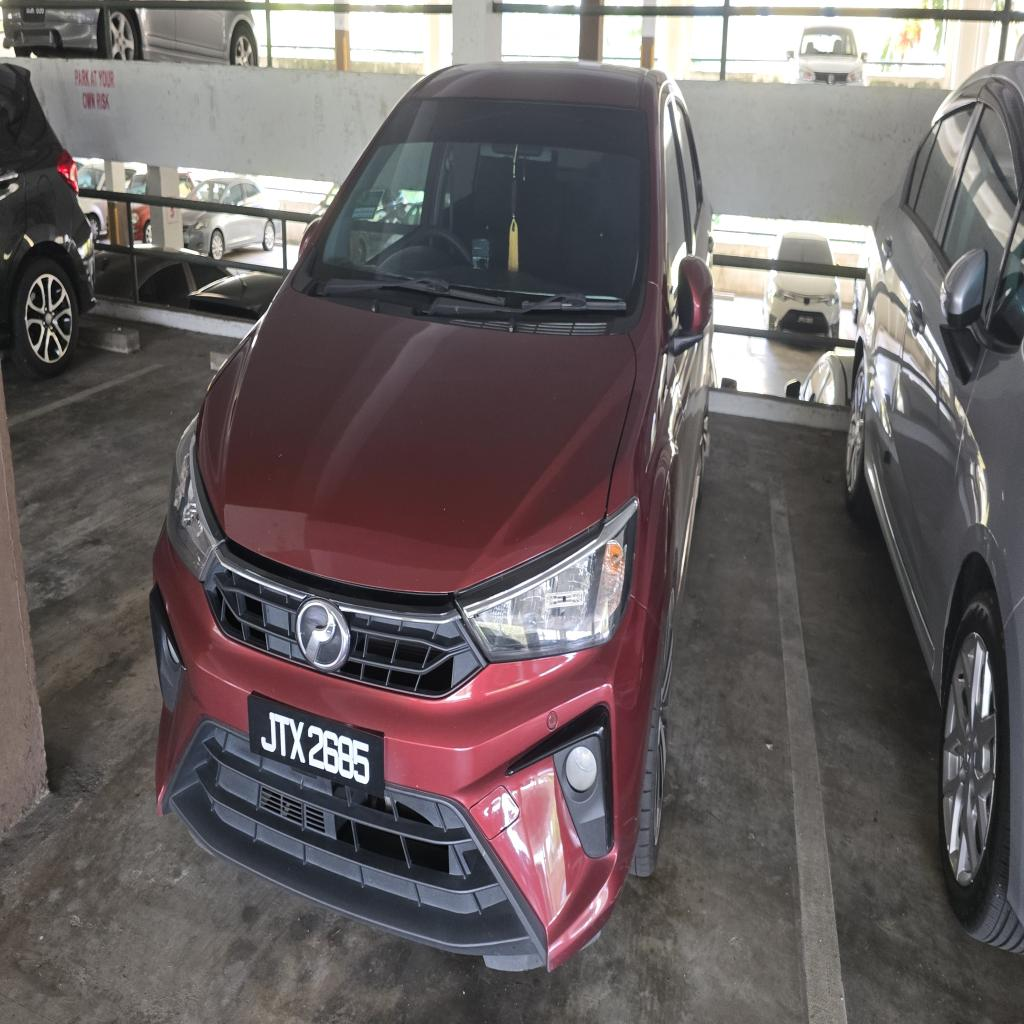car: (151, 64, 712, 969)
car plate: (249, 695, 384, 796)
